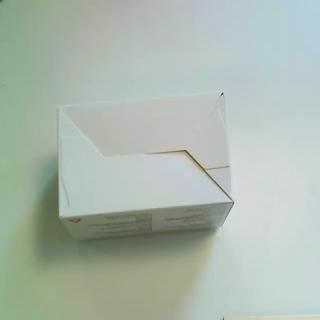levopidon25mg: (55, 90, 235, 244)
